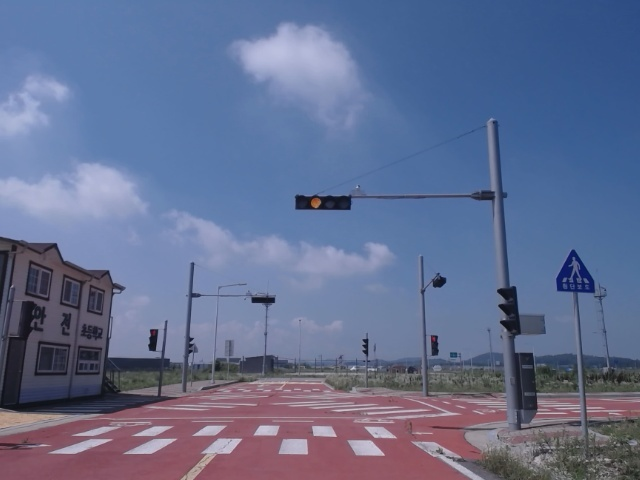orange_4: (295, 195, 351, 210)
